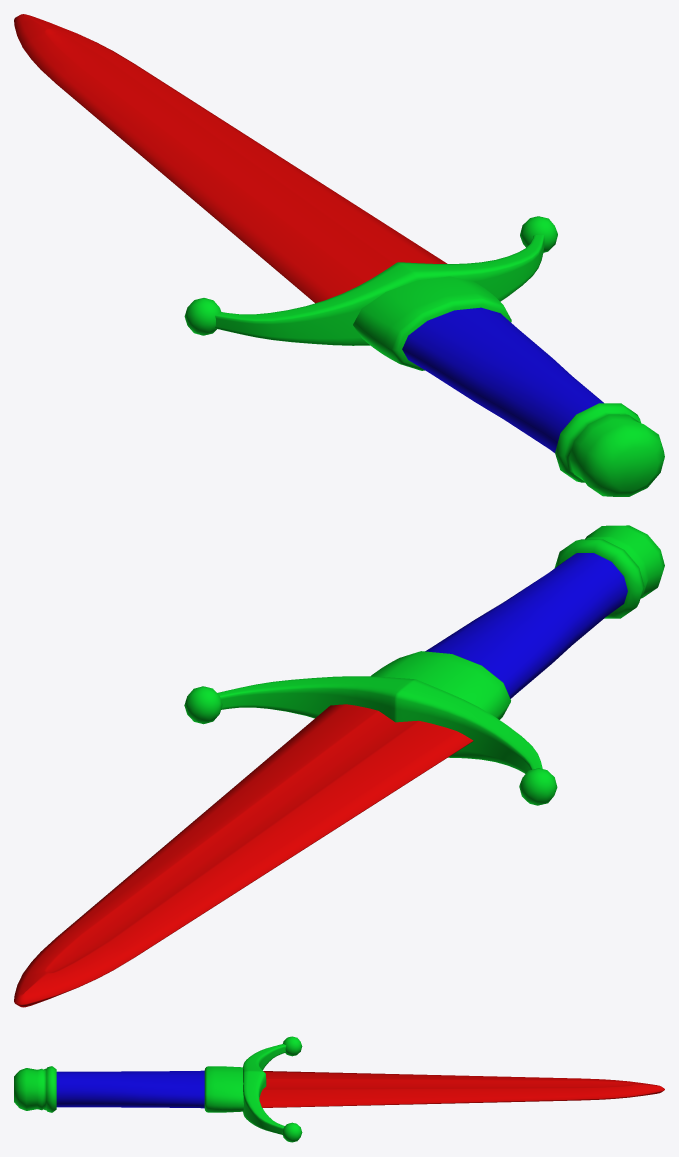
The model's file is sm_Steel_Dagger.fbx.
3 renders of one model, top to bottom at view 1: azimuth 30°, elevation 25°; view 2: azimuth 150°, elevation 25°; view 3: azimuth 270°, elevation 25°, orthographic. The views are drawn at different scales.
Parts seen in each view (by area): view 1: Steel_Dagger; view 2: Steel_Dagger; view 3: Steel_Dagger.
Part boxes in pixels (left/top/right/bottom): Steel_Dagger: left=14, top=14, right=664, bottom=496; Steel_Dagger: left=14, top=525, right=664, bottom=1007; Steel_Dagger: left=14, top=1036, right=664, bottom=1142.
Bounding box in the file's own units: 25.08 × 5.11 × 73.11.
